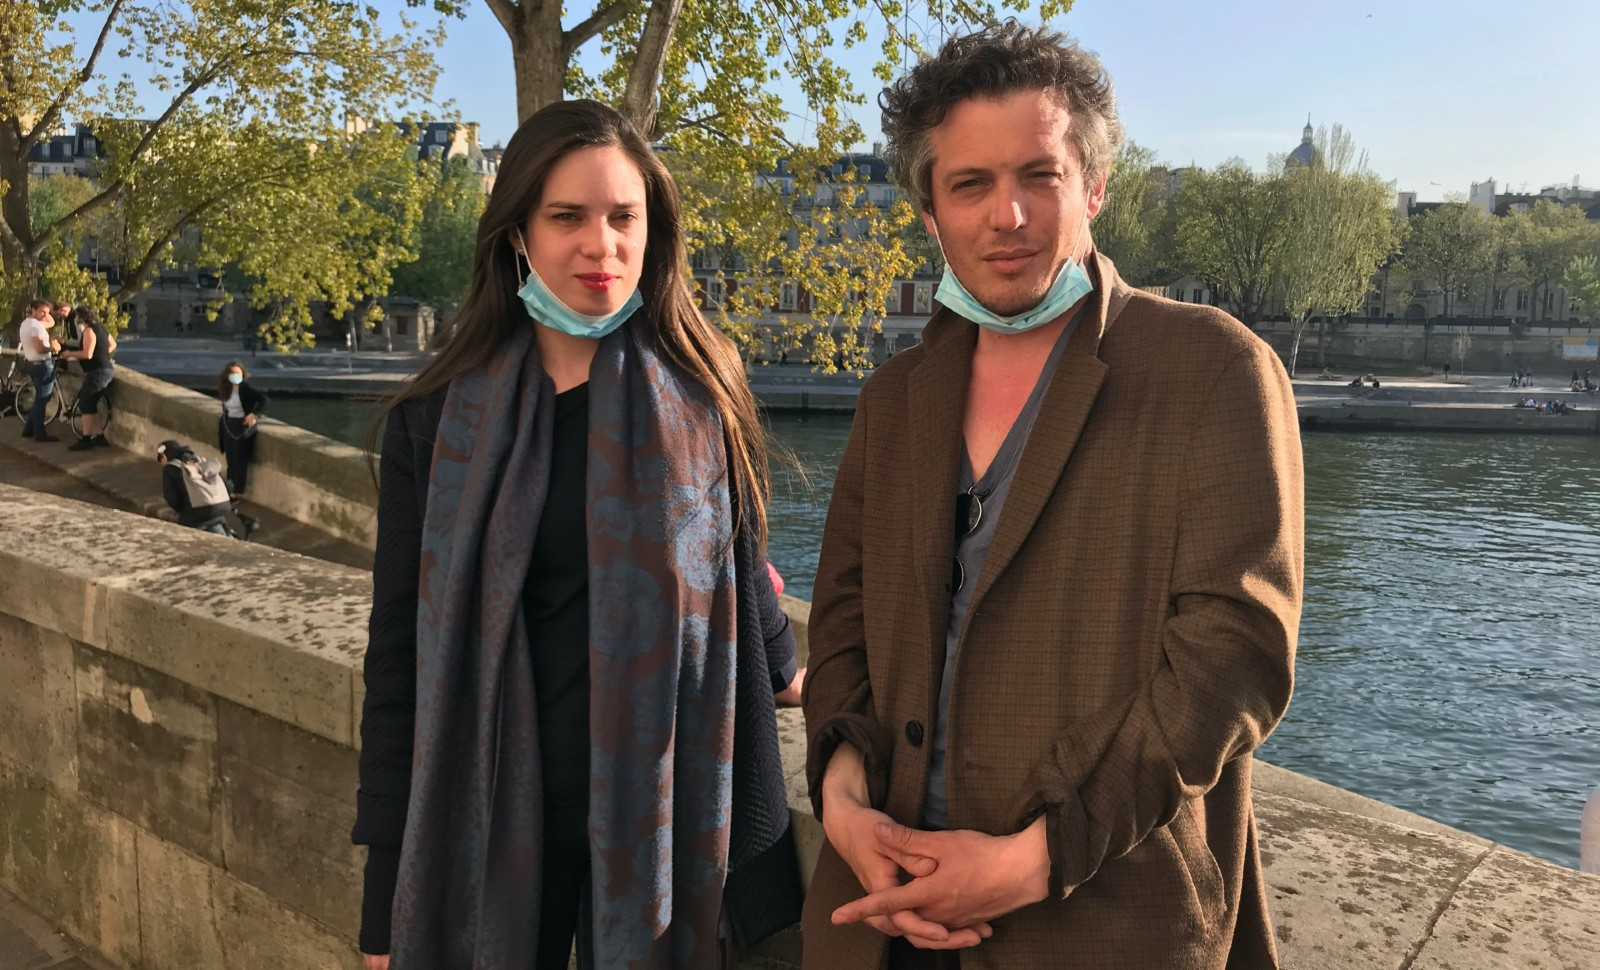with_incorrect_mask: (932, 149, 1088, 319), (533, 180, 638, 330)
